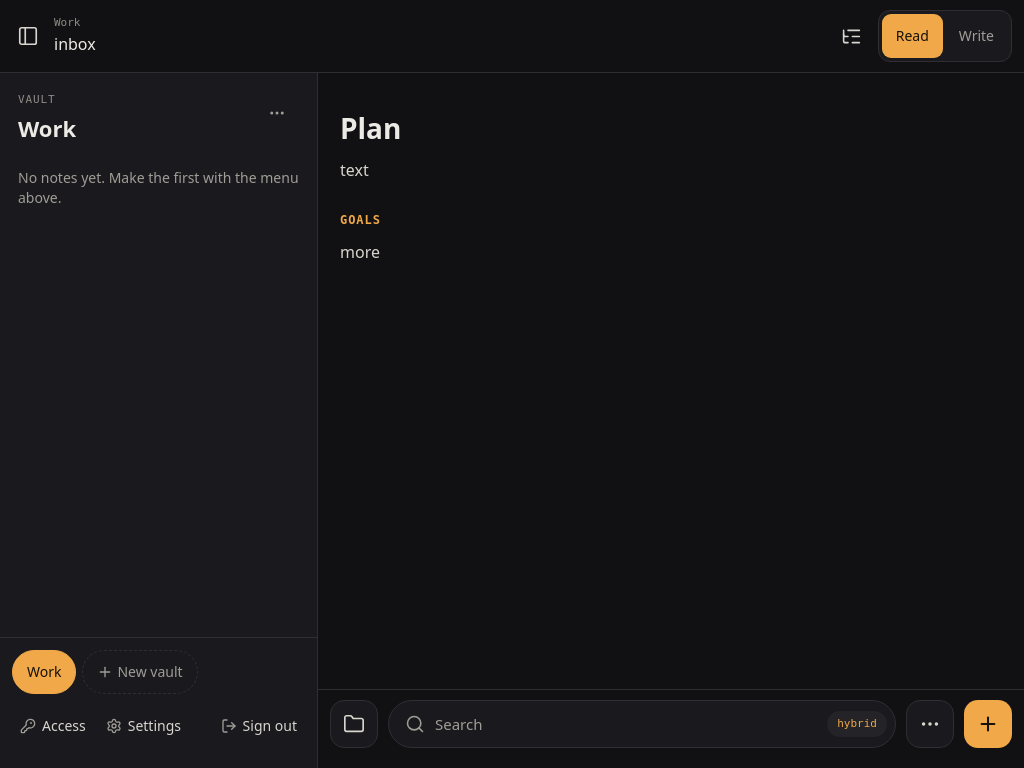
the search sheet › shows the count, the mode and its explanation, and each result's title, place, snippet, score and reason
Click the button "Search hybrid" at (459, 724), box [388,700,896,748]
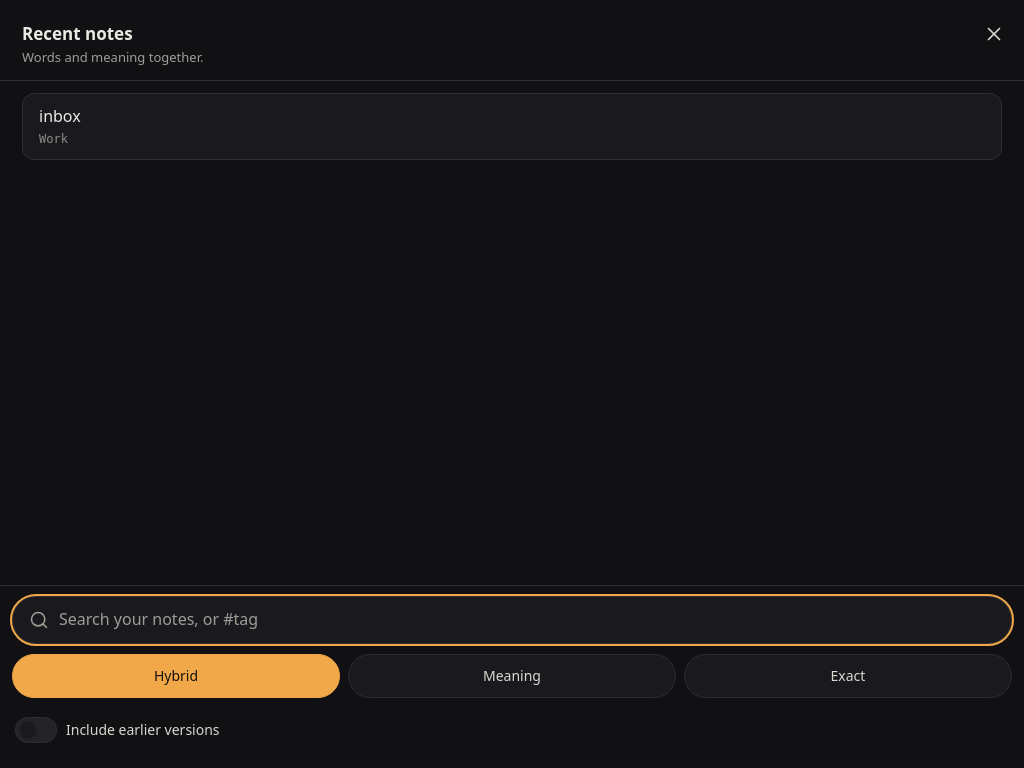
Type "plan" into the search field labelled "Search" at (527, 620), box [59,607,995,633]
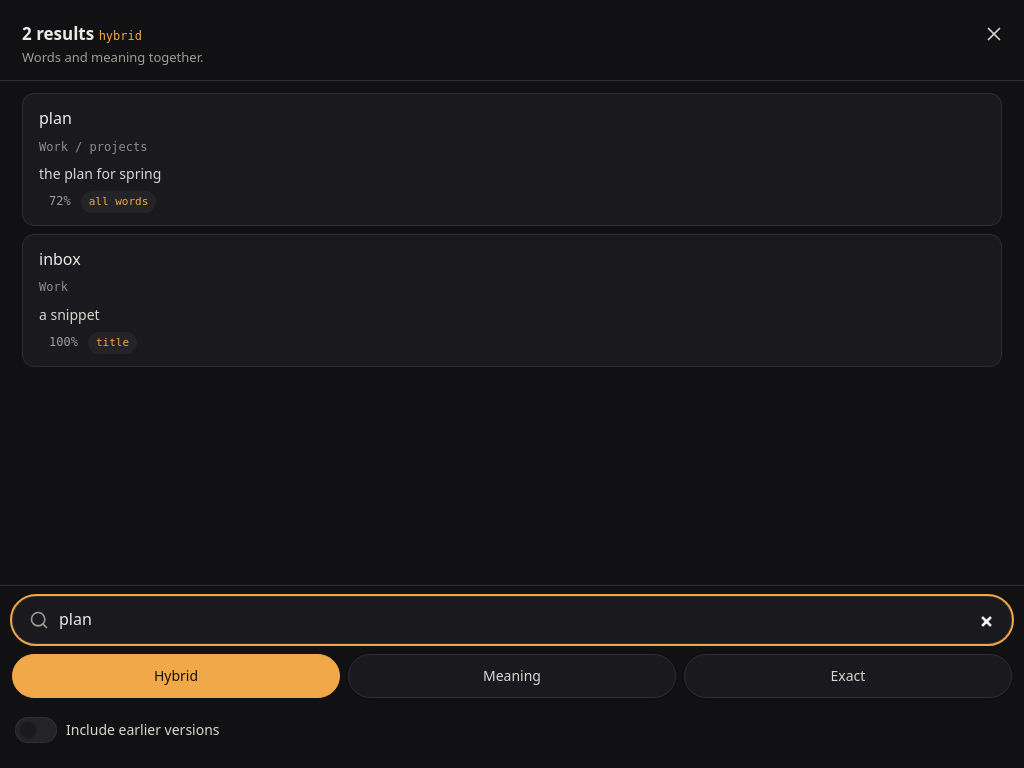
Check: the text "Words and meaning together." is shown, box [22,48,203,66]
Check: the heading "2 results hybrid" is shown, box [22,22,142,45]
Check: the text "plan" is shown, box [39,106,72,132]
